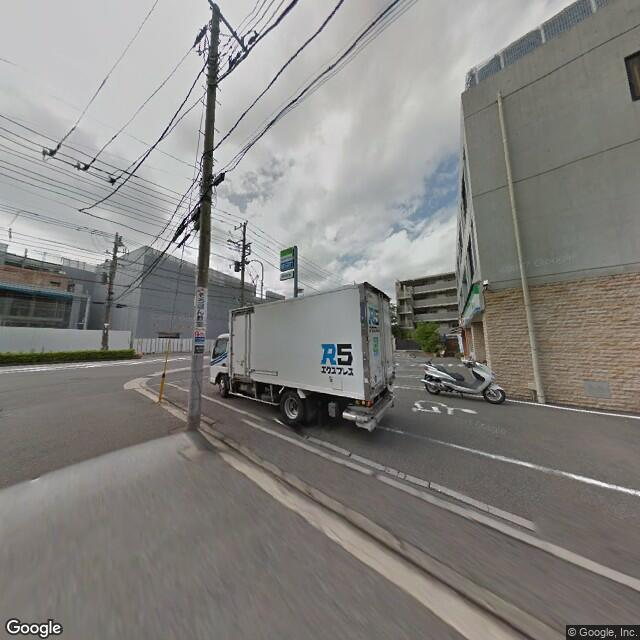family_mart: (278, 243, 299, 272)
